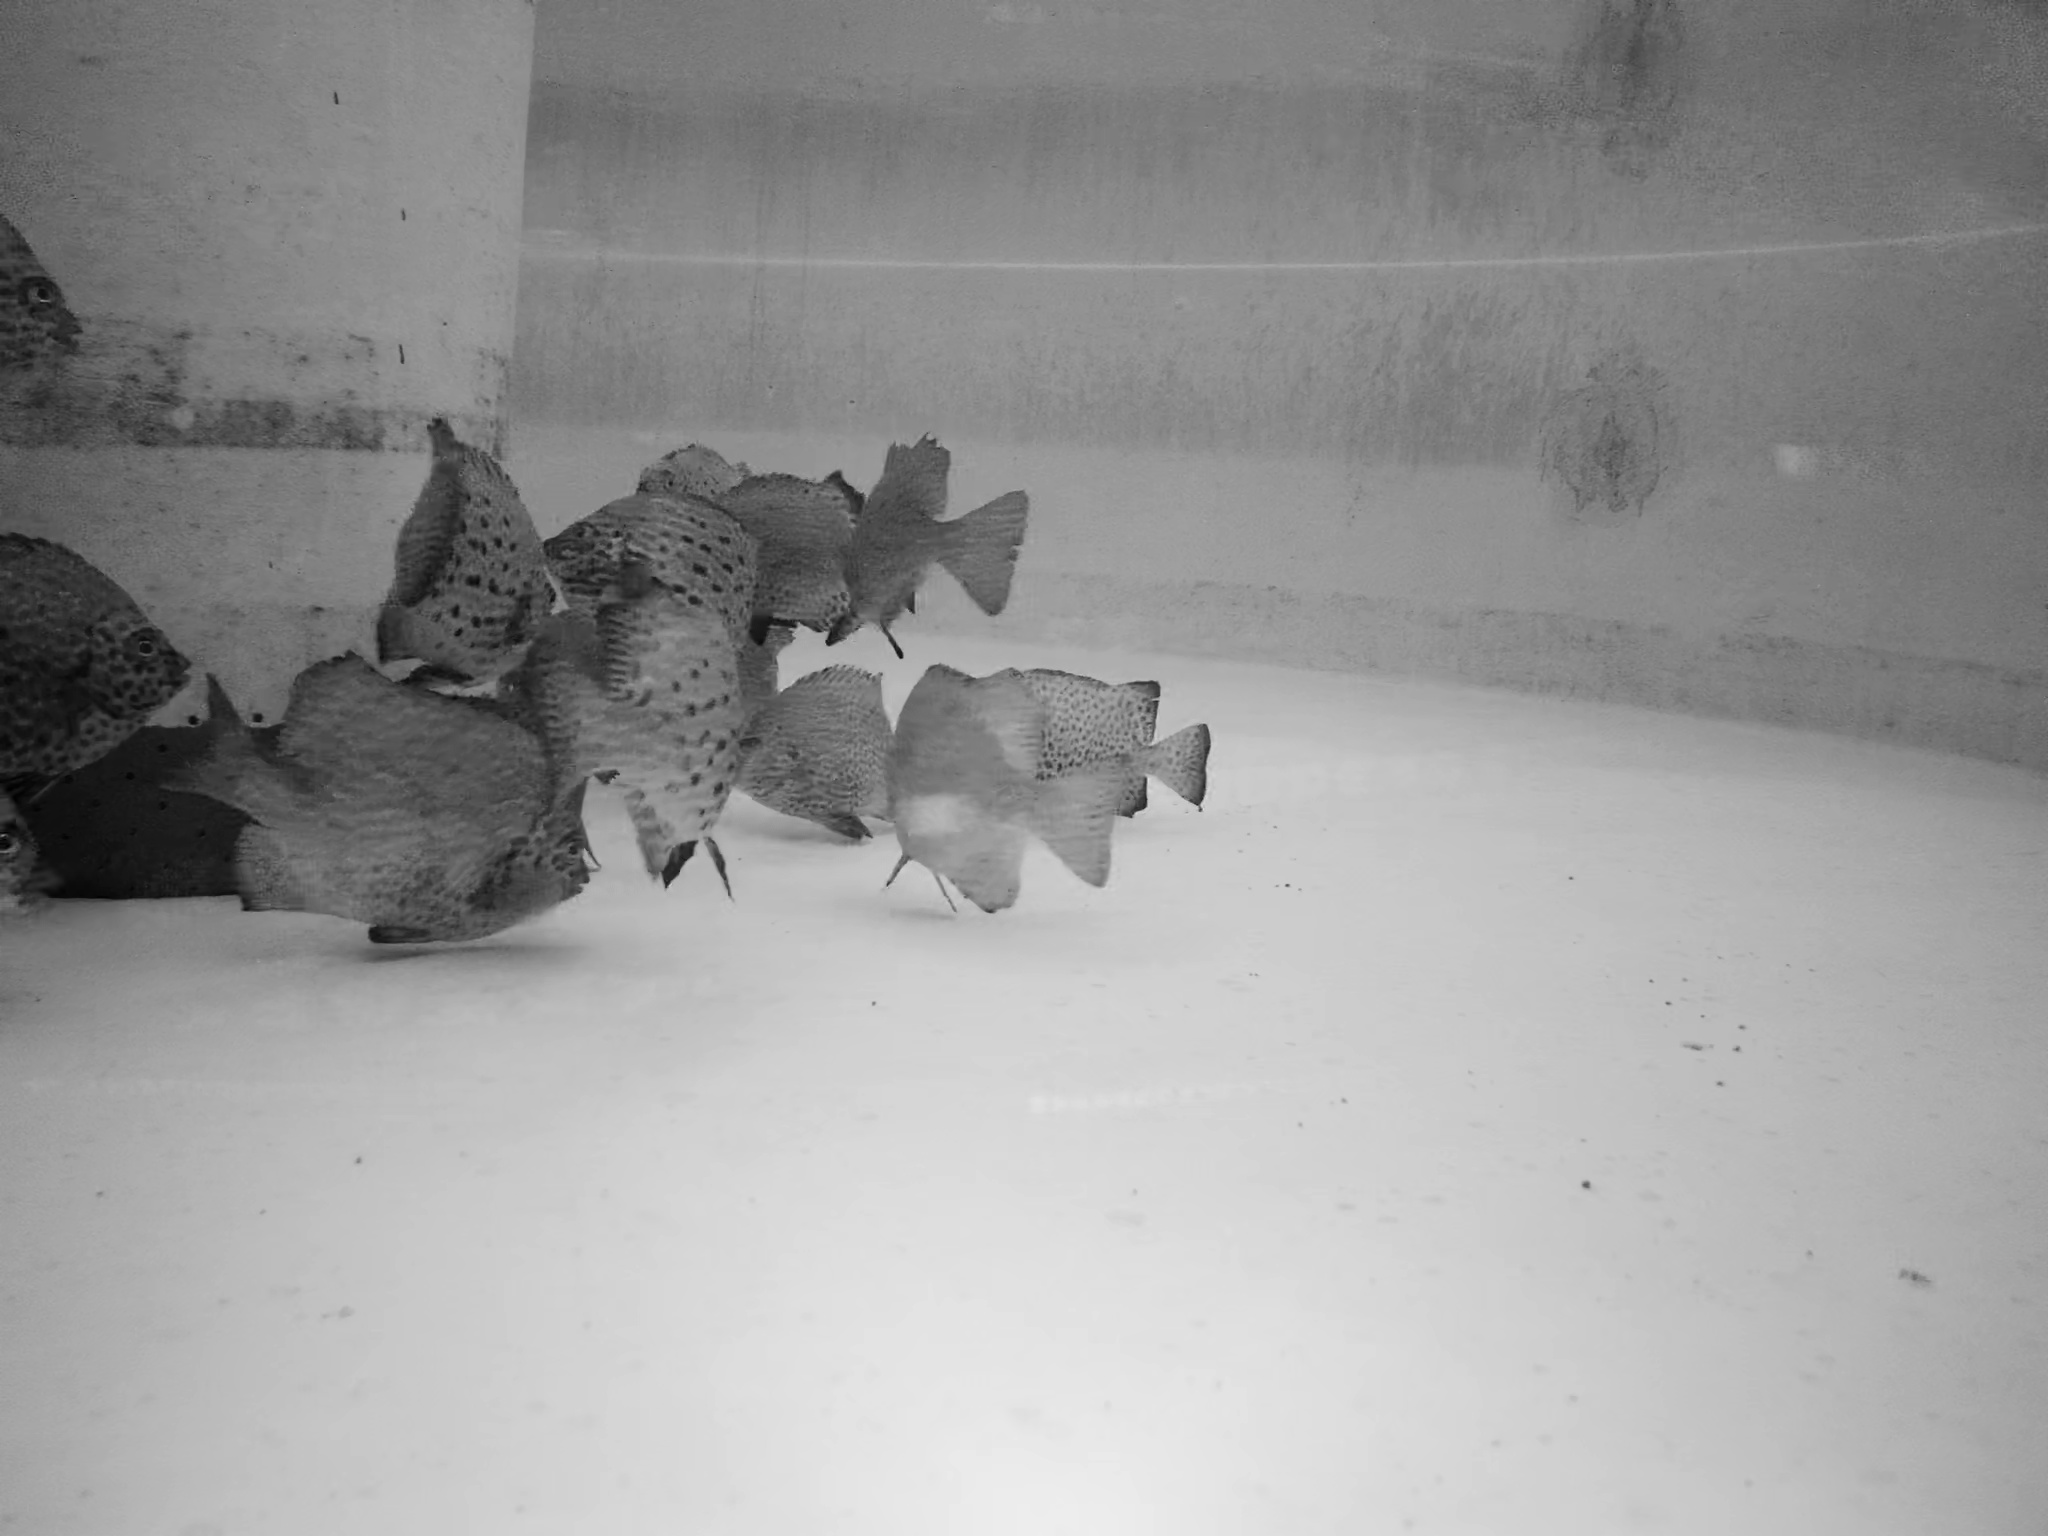fish: (187, 645, 601, 923), (895, 644, 1127, 928), (15, 531, 202, 791), (384, 421, 572, 663), (848, 429, 1029, 665), (535, 490, 776, 642), (700, 450, 880, 652), (595, 592, 722, 860), (737, 649, 901, 850), (1005, 679, 1218, 829), (2, 208, 82, 428)
